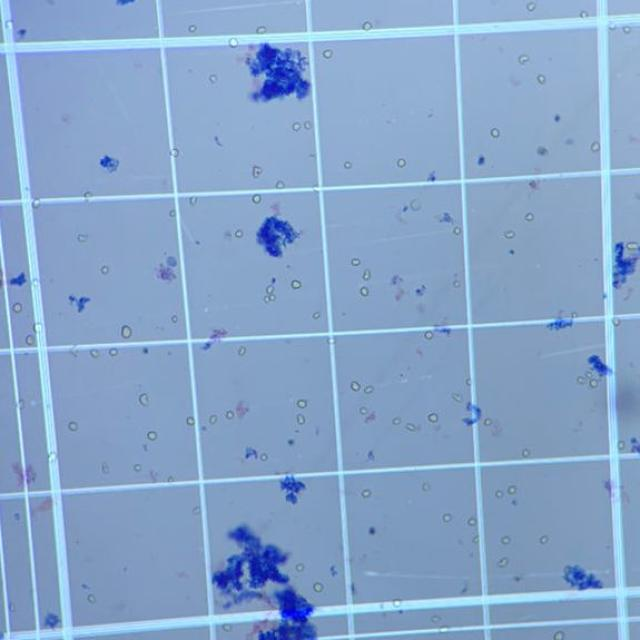Cell: (166, 256, 178, 268), (138, 393, 149, 406), (12, 302, 23, 314), (427, 412, 439, 423), (518, 54, 530, 65), (312, 582, 324, 593), (121, 326, 132, 338), (410, 198, 421, 210), (252, 165, 262, 178), (296, 398, 308, 408), (290, 280, 302, 290), (77, 233, 89, 243), (406, 422, 418, 432), (69, 346, 79, 358), (553, 630, 565, 640), (16, 398, 26, 410), (252, 193, 262, 204), (360, 286, 370, 297), (68, 421, 78, 432), (350, 381, 361, 391), (26, 335, 36, 346), (296, 414, 306, 425), (83, 191, 93, 202), (47, 452, 57, 463), (396, 158, 406, 168), (490, 128, 500, 138), (100, 265, 110, 275), (524, 212, 534, 222), (323, 49, 333, 59), (590, 142, 600, 152), (292, 122, 302, 132), (536, 74, 546, 84), (362, 21, 372, 31), (147, 431, 157, 441), (442, 513, 452, 523), (521, 448, 531, 458), (507, 485, 517, 495), (526, 2, 536, 12), (359, 406, 369, 416), (498, 558, 508, 568), (589, 378, 599, 388), (33, 323, 43, 333), (604, 567, 614, 577), (504, 230, 515, 239), (500, 536, 511, 545), (362, 269, 371, 280), (101, 463, 110, 474), (626, 242, 638, 250), (275, 180, 285, 189), (209, 74, 218, 84), (361, 489, 371, 498), (170, 148, 179, 158), (424, 331, 434, 340), (422, 482, 431, 492), (539, 535, 549, 544), (364, 385, 374, 394), (295, 563, 305, 572), (189, 196, 198, 206), (612, 318, 622, 327), (90, 349, 100, 358), (87, 594, 96, 604), (32, 199, 41, 209), (392, 598, 401, 608), (452, 393, 462, 402), (431, 615, 441, 624), (192, 506, 201, 516), (570, 310, 579, 320), (168, 209, 178, 218), (256, 26, 267, 34), (186, 417, 195, 426), (312, 311, 321, 320), (188, 24, 197, 33), (303, 121, 312, 130), (209, 415, 218, 424), (392, 417, 401, 426), (495, 489, 504, 498), (229, 38, 238, 47), (266, 286, 275, 295), (465, 378, 474, 387), (166, 475, 175, 484), (350, 258, 360, 266), (234, 230, 244, 238), (238, 346, 246, 356), (618, 440, 626, 450), (266, 294, 276, 302), (472, 534, 480, 544), (343, 161, 352, 169), (468, 518, 477, 526), (109, 348, 118, 356), (226, 410, 234, 419), (133, 464, 142, 472), (623, 26, 632, 34), (483, 418, 492, 426), (223, 624, 232, 632), (577, 376, 586, 384), (5, 20, 13, 29), (368, 526, 376, 535), (9, 603, 16, 613), (453, 227, 461, 235), (170, 315, 178, 323), (580, 10, 588, 18), (260, 453, 268, 461), (453, 280, 461, 288), (287, 438, 295, 446), (29, 400, 37, 408), (440, 626, 449, 633), (608, 22, 616, 29), (327, 338, 336, 344), (142, 347, 149, 354)
